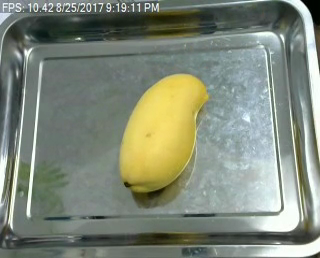Mango: (115, 72, 211, 192)
